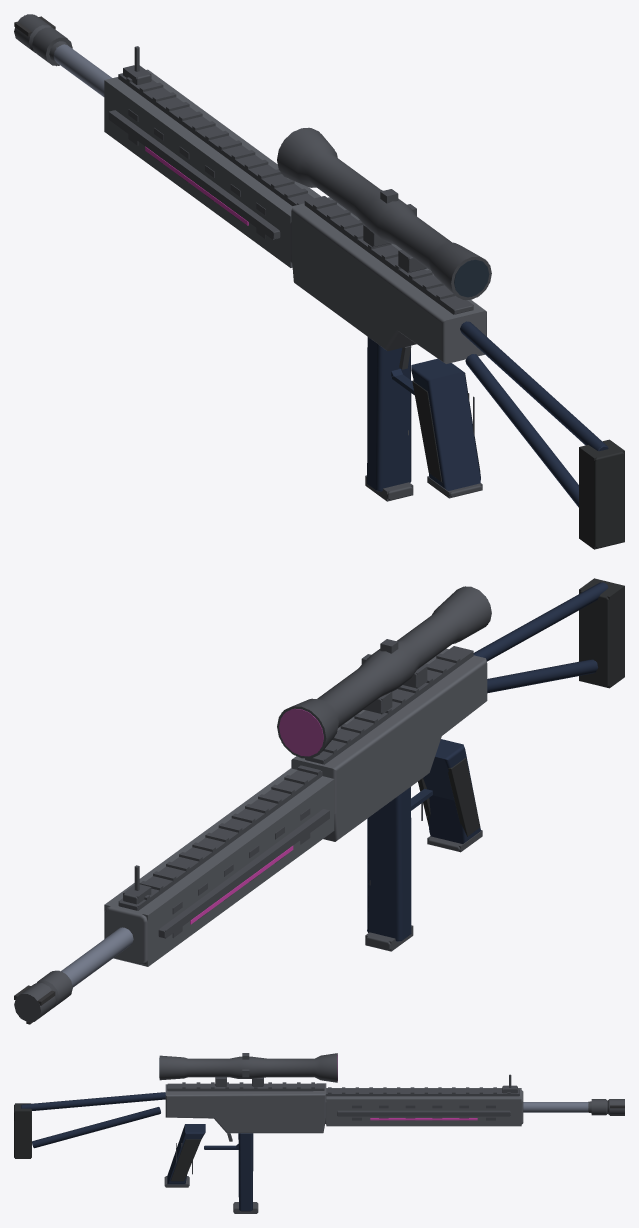
The model's file is d_arbiter.glb.
3 renders of one model, top to bottom at view 1: azimuth 30°, elevation 25°; view 2: azimuth 150°, elevation 25°; view 3: azimuth 270°, elevation 25°, orthographic. The views are drawn at different scales.
Parts seen in each view (by area): view 1: L0, L1; view 2: L0, L1; view 3: L0, L1.
Part boxes in pixels (<box>): L0: <box>14,14,624,548</box>; L1: <box>15,15,624,549</box>; L0: <box>14,579,624,1024</box>; L1: <box>15,578,624,1022</box>; L0: <box>14,1053,624,1212</box>; L1: <box>15,1053,624,1213</box>.
Bounding box in the file's own units: 0.06 × 0.3 × 1.06.
